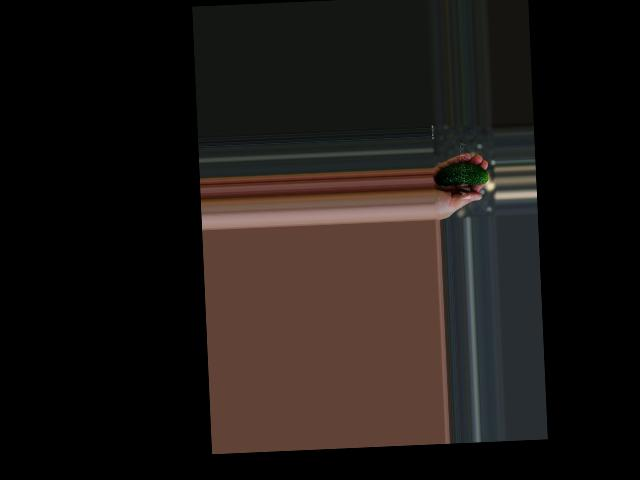cucumber: (435, 161, 487, 186)
